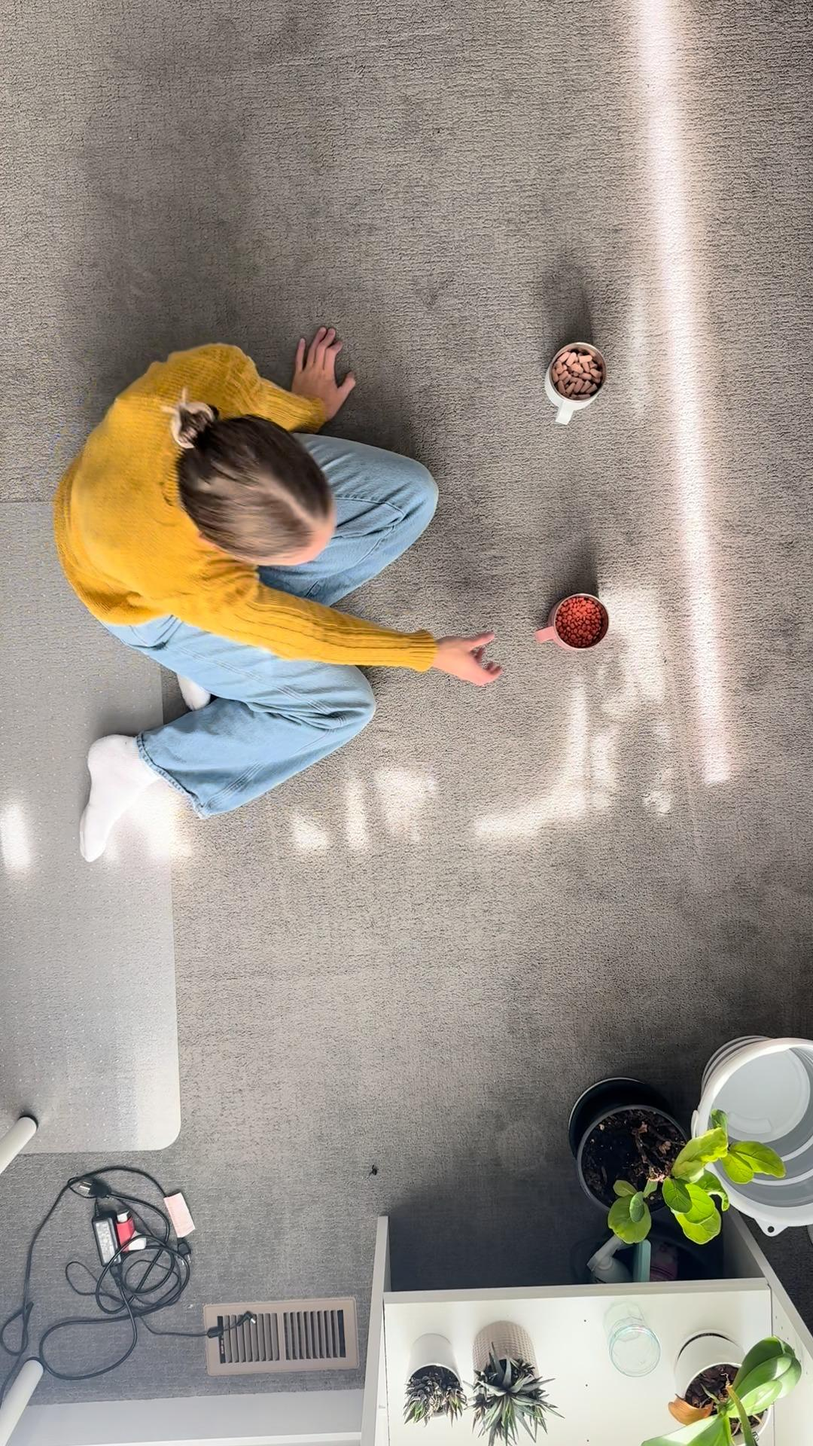IBC: (534, 331, 615, 429), (527, 582, 615, 660)
